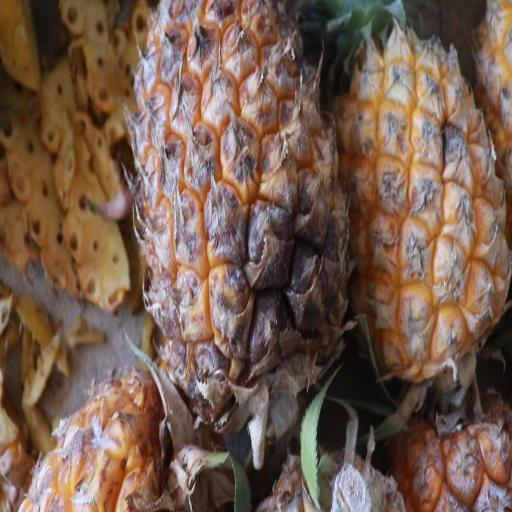Pineapple - v8 v1: (129, 0, 360, 438), (334, 0, 512, 416)
